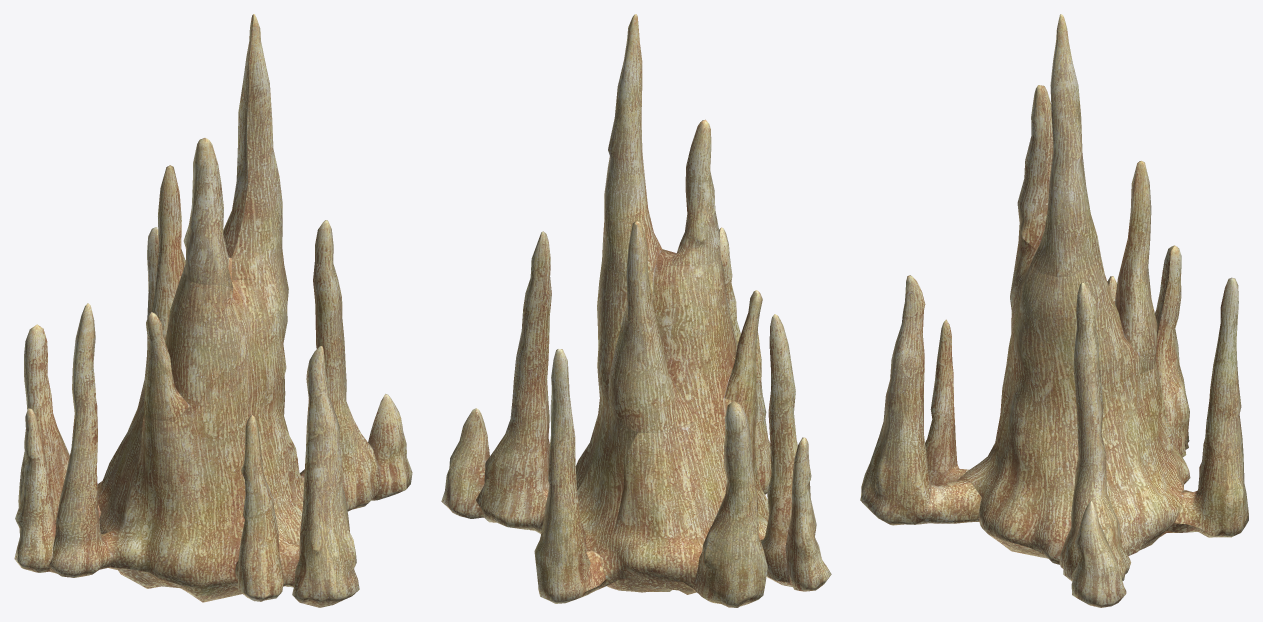
File: cave_stalagmite_quality02.dae
3 views of the same model, side by side, from view 1: azimuth 30°, elevation 25°; view 2: azimuth 150°, elevation 25°; view 3: azimuth 270°, elevation 25° (orthographic). The views are drawn at different scales.
Parts seen in each view (by area): view 1: cave_stalagmite_quality02_; view 2: cave_stalagmite_quality02_; view 3: cave_stalagmite_quality02_.
Part boxes in pixels (<box>): cave_stalagmite_quality02_: <box>14,14,412,607</box>; cave_stalagmite_quality02_: <box>441,14,831,607</box>; cave_stalagmite_quality02_: <box>860,14,1248,607</box>.
Bounding box in the file's own units: 94.85 × 130 × 83.84.
